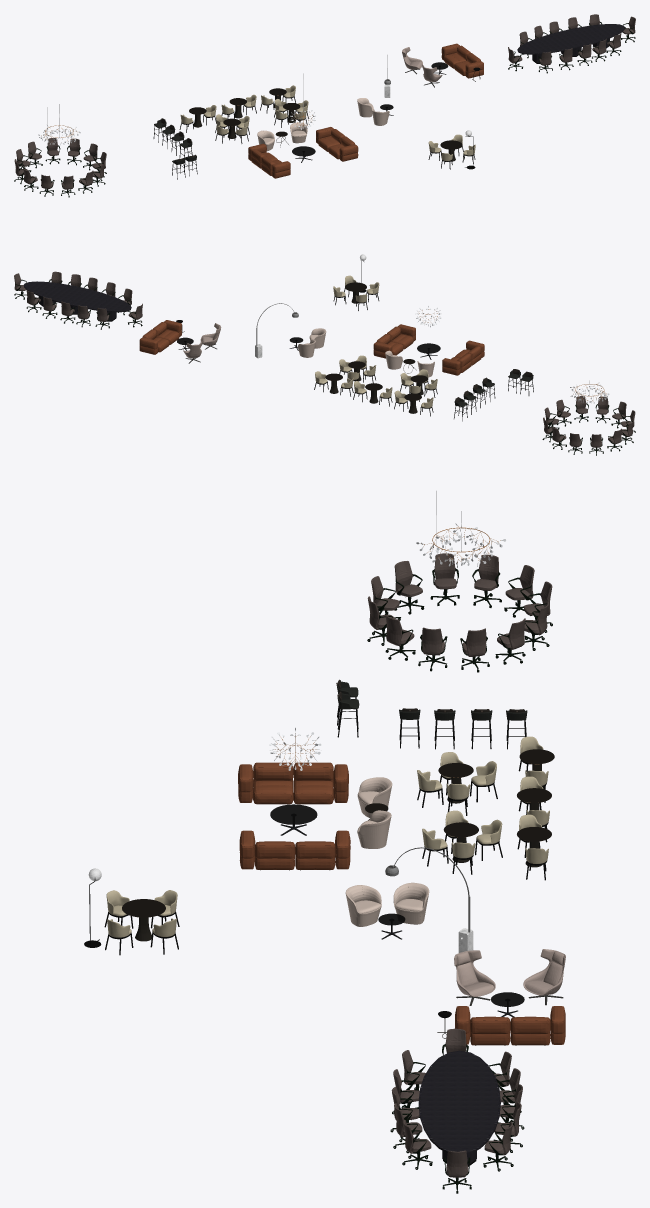
File: ELJ_GOOD.glb
3 views of the same model, one above another, from view 1: azimuth 30°, elevation 25°; view 2: azimuth 150°, elevation 25°; view 3: azimuth 270°, elevation 25° (orthographic). The views are drawn at different scales.
Parts seen in each view (by area): view 1: I52, I72.003, I82.003, I72.004, I71.001, I71; view 2: I52; view 3: I52, I72.005, I72, I82.001, I82, I72.004, I72.002, I72.003, I72.001, I82.003.
Boxes of the visible parts, x1,y1,x2,y2 form: I52: [518, 24, 623, 53]; I72.003: [318, 129, 344, 151]; I82.003: [290, 122, 307, 143]; I72.004: [444, 45, 470, 68]; I71.001: [339, 144, 358, 161]; I71: [272, 161, 290, 178]; I52: [25, 282, 130, 310]; I52: [420, 1051, 498, 1151]; I72.005: [293, 762, 333, 804]; I72: [253, 762, 293, 804]; I82.001: [345, 885, 381, 926]; I82: [393, 882, 429, 924]; I72.004: [510, 1016, 550, 1045]; I72.002: [470, 1016, 510, 1045]; I72.003: [295, 841, 335, 869]; I72.001: [254, 841, 294, 869]; I82.003: [357, 810, 391, 848].
Bounding box in the file's own units: 32.09 × 6.5 × 10.89.
Materials: 31 (15 with a texture image).
